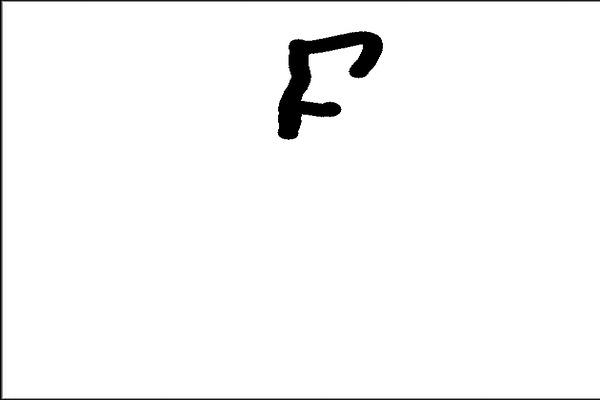F: (272, 27, 384, 143)
